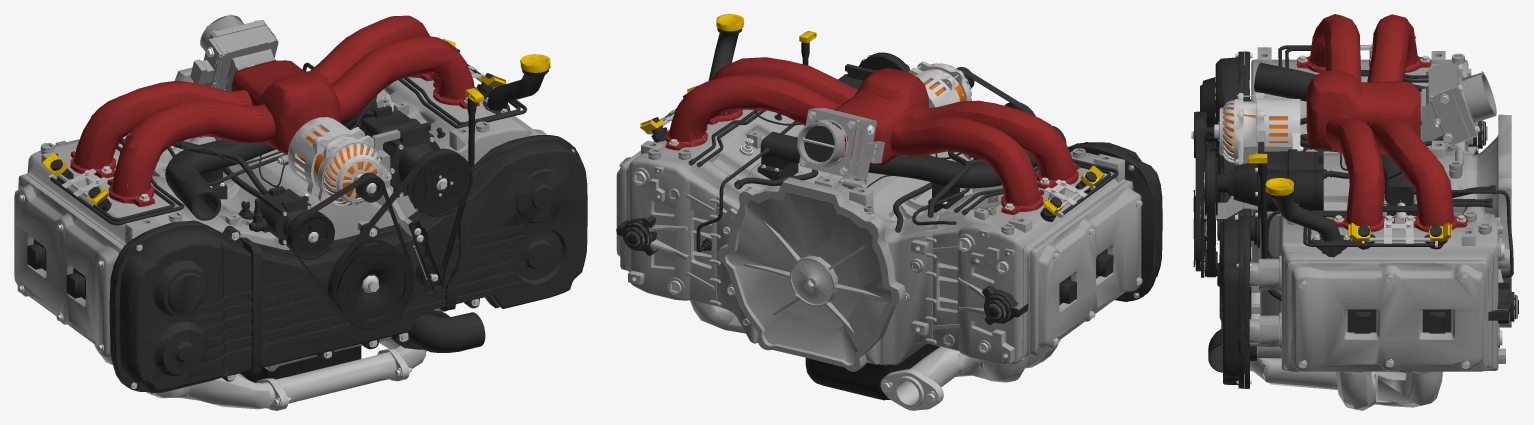
File: eng-f4-25-t.glb
The picture shows the model from 3 angles, left to right: view 1: azimuth 30°, elevation 25°; view 2: azimuth 150°, elevation 25°; view 3: azimuth 270°, elevation 25°; orthographic projection. The views are drawn at different scales.
Visible parts, largest first — view 1: Object_613, Object_469, Object_283, Object_318, Object_667, Object_288, Object_42, Object_291, Object_882, Object_6, Object_634, Object_658 (+23 smaller); view 2: Object_469, Object_283, Object_291, Object_288, Object_613, Object_882, Object_318, Object_712, Object_829, Object_637, Object_90, Object_529 (+15 smaller); view 3: Object_469, Object_283, Object_613, Object_288, Object_280, Object_882, Object_6, Object_42, Object_291, Object_637, Object_700, Object_643 (+22 smaller).
Boxes of the visible parts, x1,y1,x2,y2 form: Object_613: (109,135,587,393); Object_469: (14,64,546,371); Object_283: (70,15,479,207); Object_318: (94,344,409,410); Object_667: (327,239,415,329); Object_288: (231,60,340,154); Object_42: (287,117,391,206); Object_291: (165,97,377,220); Object_882: (190,14,278,91); Object_6: (359,105,439,197); Object_634: (237,197,469,376); Object_658: (409,312,485,352); Object_469: (616,109,1141,371); Object_283: (665,57,1079,214); Object_291: (757,126,1066,212); Object_288: (832,68,928,165); Object_613: (1068,142,1162,301); Object_882: (797,107,884,178); Object_318: (899,340,1060,403); Object_712: (805,344,939,400); Object_829: (616,215,1028,324); Object_637: (663,109,1118,215); Object_90: (755,110,984,232); Object_529: (880,369,943,410); Object_469: (1251,59,1511,371); Object_283: (1296,14,1467,232); Object_613: (1200,51,1249,389); Object_288: (1306,70,1420,150); Object_280: (1250,348,1442,410); Object_882: (1421,61,1496,145); Object_6: (1233,142,1323,218); Object_42: (1214,93,1300,165); Object_291: (1254,63,1417,215); Object_637: (1278,45,1492,246); Object_700: (1267,192,1351,257); Object_643: (1347,309,1451,333).
Size of the model in its own units: 0.8675 by 0.5641 by 0.5532.
